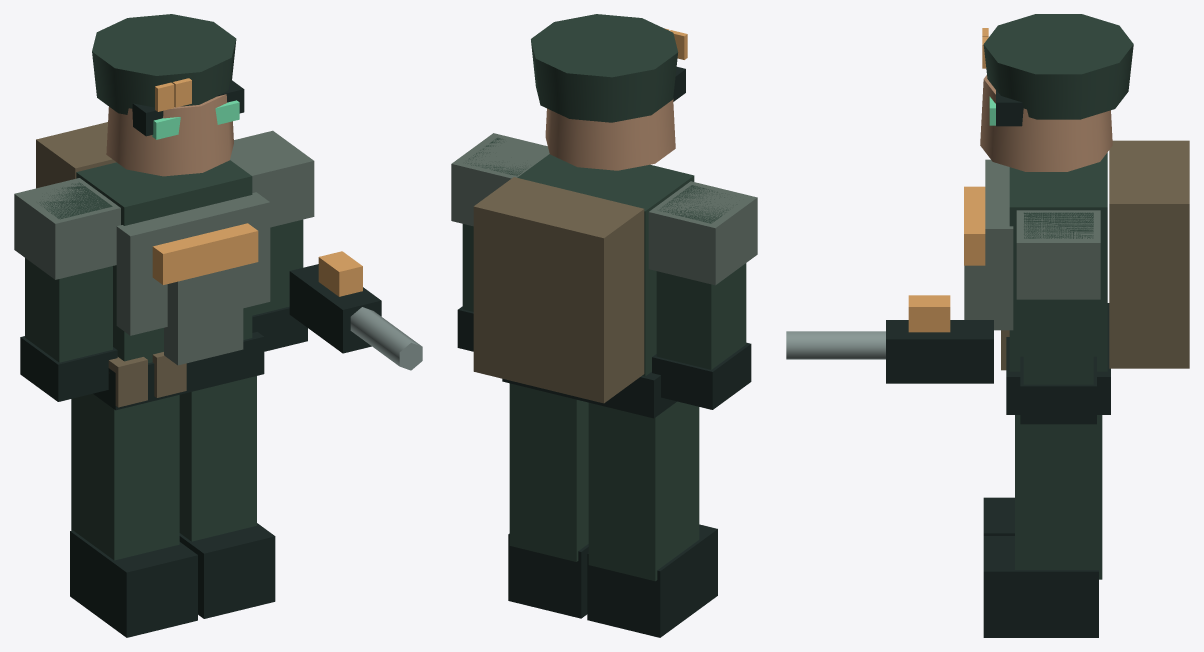
Rendered from assault_l02.glb.
3 renders of one model, left to right at view 1: azimuth 30°, elevation 25°; view 2: azimuth 150°, elevation 25°; view 3: azimuth 270°, elevation 25°, orthographic. The views are drawn at different scales.
Parts seen in each view (by area): view 1: trouser (×2), boot (×2), shoulder_plate (×2), sleeve (×2), helmet, vest, body, face, front_plate, glove (×2), dzn_chest_flash, carbine_body (+8 smaller); view 2: field_pack, trouser (×2), shoulder_plate (×2), helmet, boot (×2), sleeve (×2), body, face, glove (×2), belt; view 3: field_pack, helmet, trouser, boot (×2), sleeve, shoulder_plate, body, face, carbine_body, vest, glove, carbine_barrel (+5 smaller).
Boxes of the visible parts, x1,y1,x2,y2 form: trouser (×2): (71,376,256,560); boot (×2): (70,523,275,637); shoulder_plate (×2): (14,130,314,279); sleeve (×2): (25,182,303,362); helmet: (92,14,236,114); vest: (116,192,270,335); body: (76,160,252,363); face: (106,94,233,176); front_plate: (164,266,243,365); glove (×2): (20,306,307,401); dzn_chest_flash: (152,223,258,284); carbine_body: (289,264,381,353); field_pack: (473,177,644,403); trouser (×2): (509,383,699,581); shoulder_plate (×2): (451,133,757,285); helmet: (531,14,678,122); boot (×2): (508,524,717,637); sleeve (×2): (462,137,746,369); body: (517,154,694,376); face: (545,99,675,170); glove (×2): (457,306,751,409); belt: (502,372,676,418); field_pack: (1109,140,1189,368); helmet: (983,14,1133,119); trouser: (1015,415,1102,579); boot (×2): (983,497,1098,637); sleeve: (1023,212,1093,384); shoulder_plate: (1016,210,1100,299); body: (1009,152,1107,371); face: (980,75,1112,171); carbine_body: (886,320,993,383); vest: (985,159,1013,330); glove: (1020,356,1096,424); carbine_barrel: (786,331,885,359).
Size of the model in its own units: 0.88 by 1.76 by 1.16.
